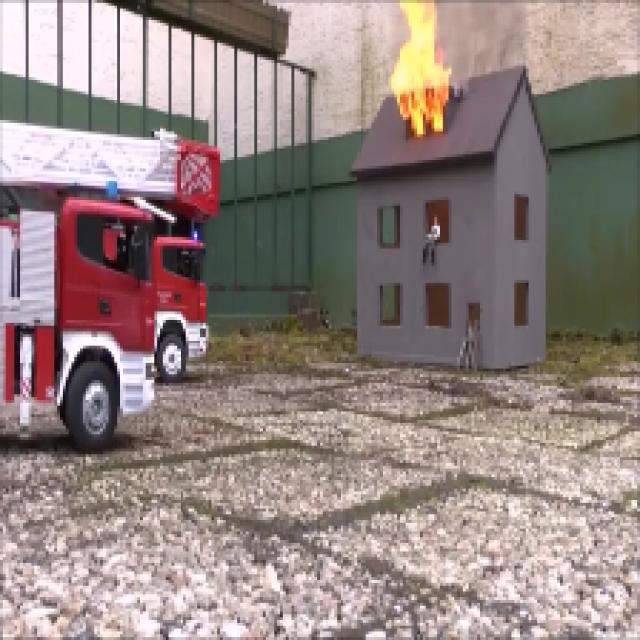smoke: (388, 0, 449, 132)
